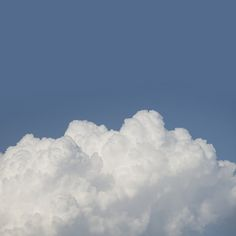Cumulus: (3, 101, 234, 236)
